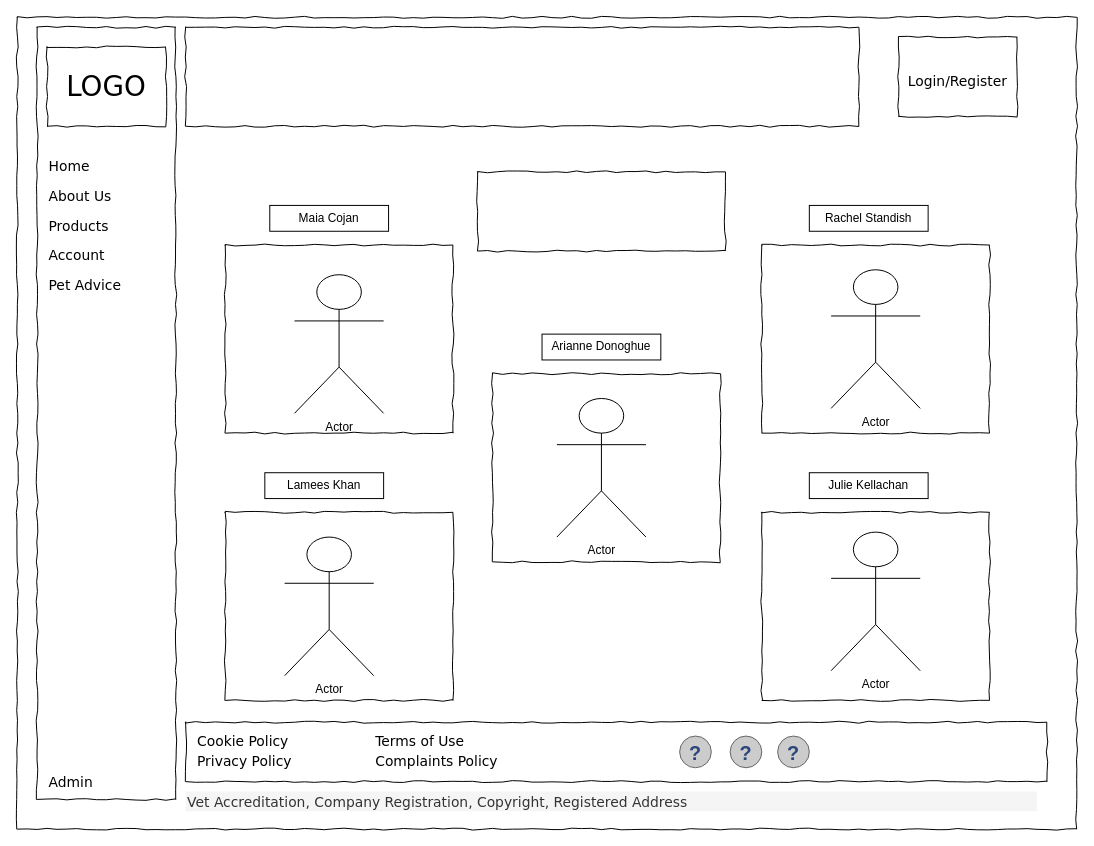
Image size: 1094x846. Some labels were removed from this diagram. The shapes that lost their labels are listed below. From the top down, each one's centre as x and y in pixels, then its label:
At (x=522, y=76): "Vet Clinic Name".
At (x=601, y=211): "Meet The Team".
